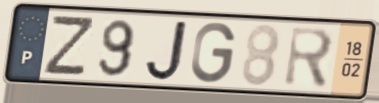8: (238, 21, 283, 89)
9: (99, 17, 138, 80)
G: (189, 20, 239, 86)
J: (143, 18, 191, 83)
R: (281, 24, 337, 92)
Z: (40, 15, 98, 78)
